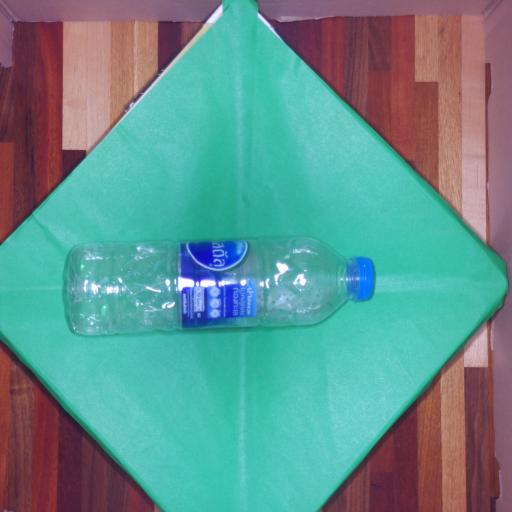bottle: (58, 218, 386, 349)
